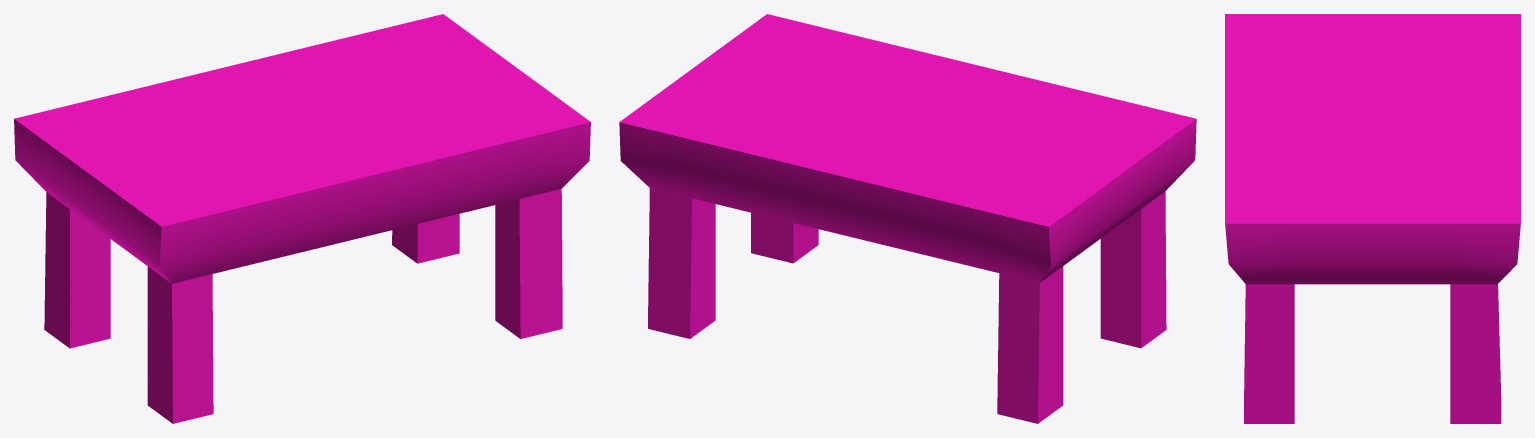
The model's file is study_table_3_meshCollider.fbx.
The picture shows the model from 3 angles, left to right: view 1: azimuth 30°, elevation 25°; view 2: azimuth 150°, elevation 25°; view 3: azimuth 270°, elevation 25°; orthographic projection.
Visible parts, largest first — view 1: study_table_3_meshCollider; view 2: study_table_3_meshCollider; view 3: study_table_3_meshCollider.
Part boxes in pixels (bbox=[...]): study_table_3_meshCollider: bbox=[14, 14, 590, 423]; study_table_3_meshCollider: bbox=[619, 14, 1196, 423]; study_table_3_meshCollider: bbox=[1225, 14, 1520, 423].
Bounding box in the file's own units: 94.87 × 44.07 × 56.42.
